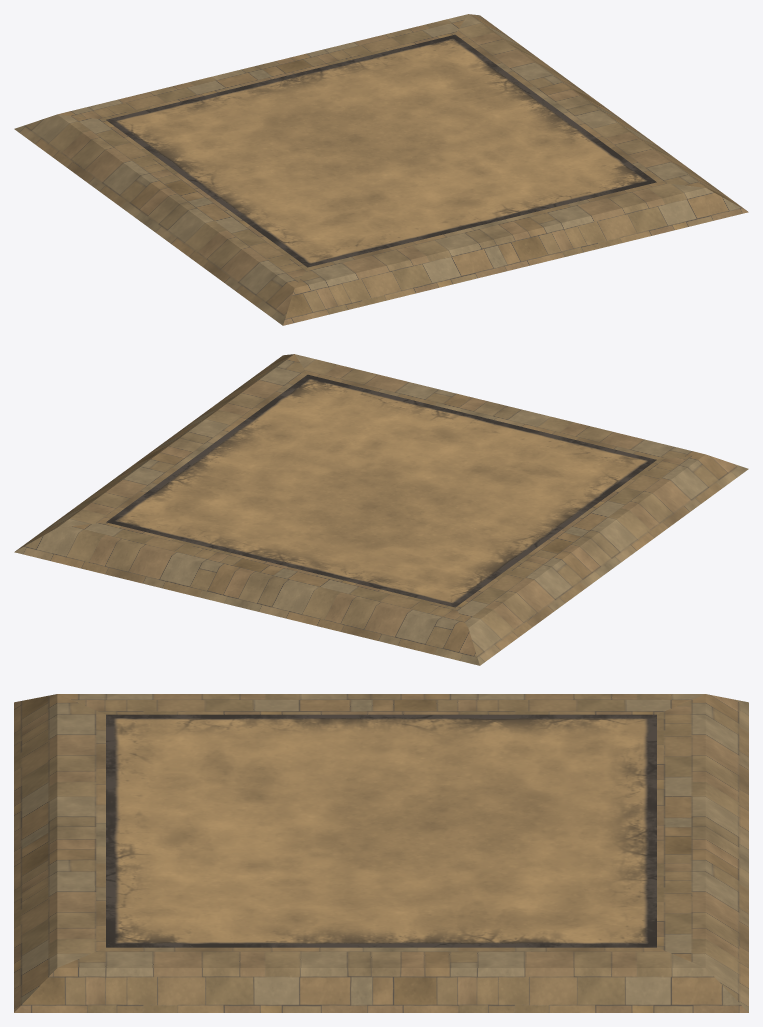
The model's file is ResetButton.fbx.
3 renders of one model, top to bottom at view 1: azimuth 30°, elevation 25°; view 2: azimuth 150°, elevation 25°; view 3: azimuth 270°, elevation 25°, orthographic. The views are drawn at different scales.
Parts seen in each view (by area): view 1: ResetButton; view 2: ResetButton; view 3: ResetButton.
Boxes of the visible parts, x1=… form: ResetButton: x1=14, y1=14, x2=748, y2=325; ResetButton: x1=14, y1=354, x2=748, y2=665; ResetButton: x1=14, y1=694, x2=748, y2=1012.
Bounding box in the file's own units: 150 × 6 × 150.
